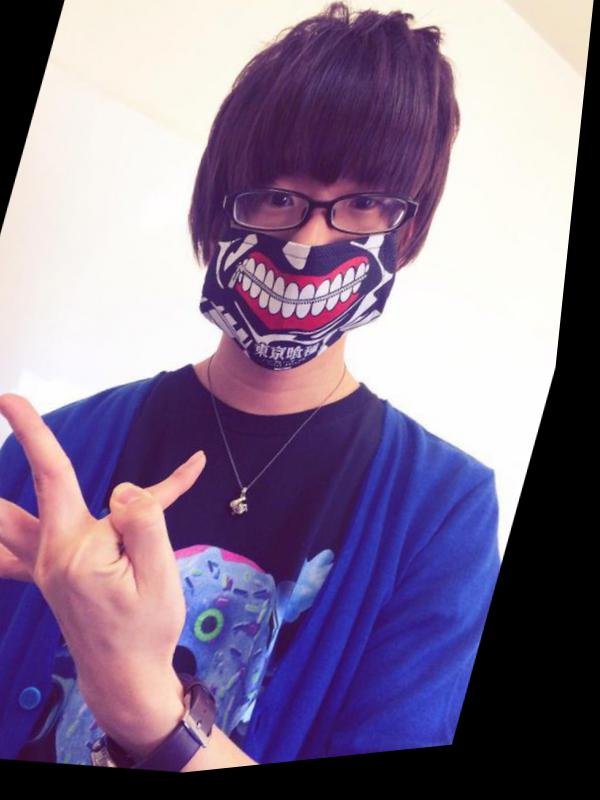WRONG: (192, 148, 427, 383)
